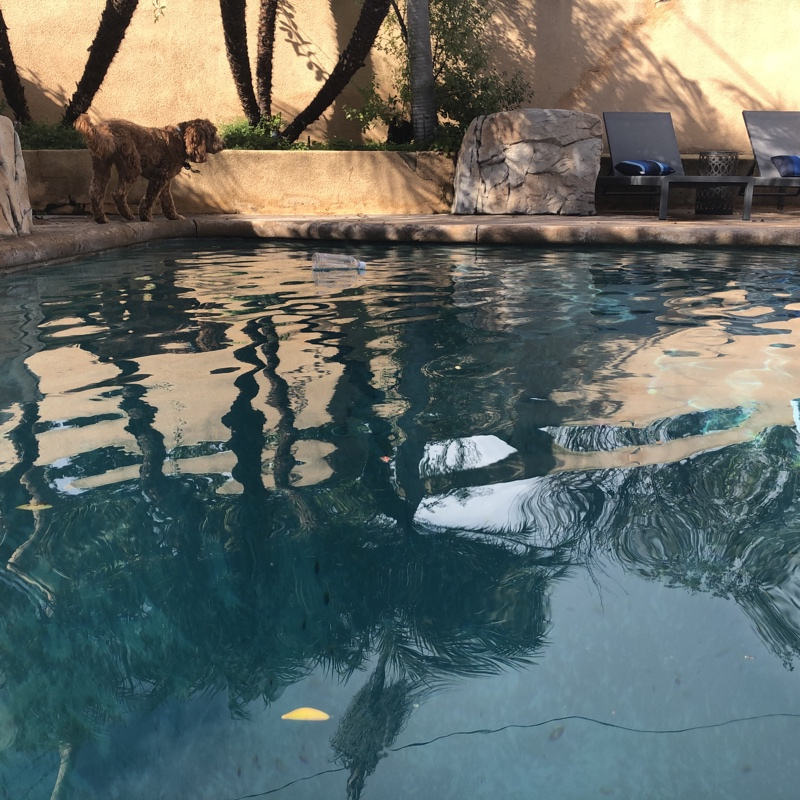Plastic Bottle: (309, 250, 369, 275)
